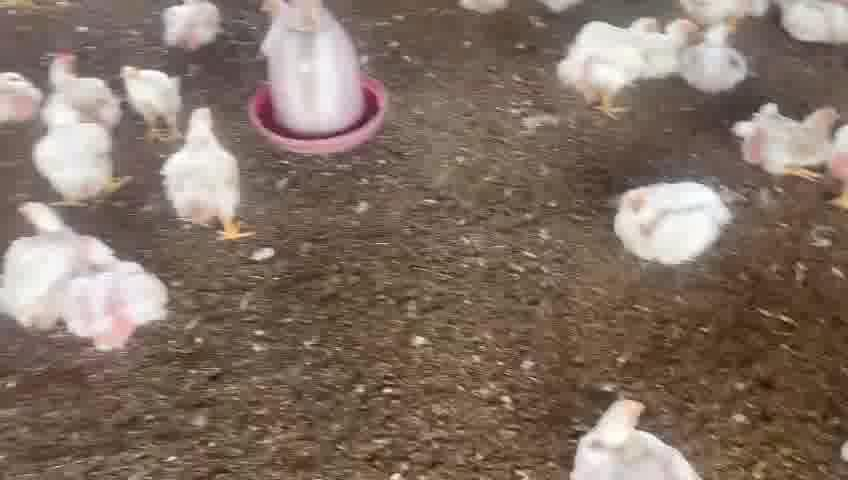Normal: (611, 169, 739, 275), (1, 196, 93, 324), (36, 104, 139, 214), (174, 109, 254, 248), (741, 86, 830, 183), (69, 258, 163, 348), (566, 16, 646, 111), (668, 19, 752, 104), (110, 59, 192, 134), (41, 40, 116, 121)
